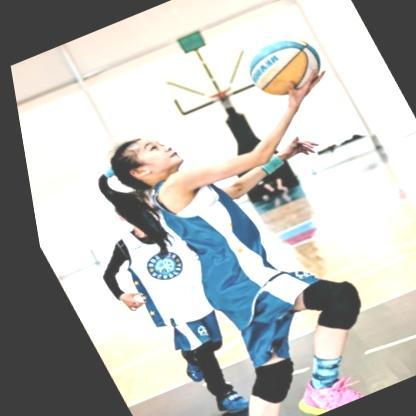basketball: (232, 28, 331, 105)
